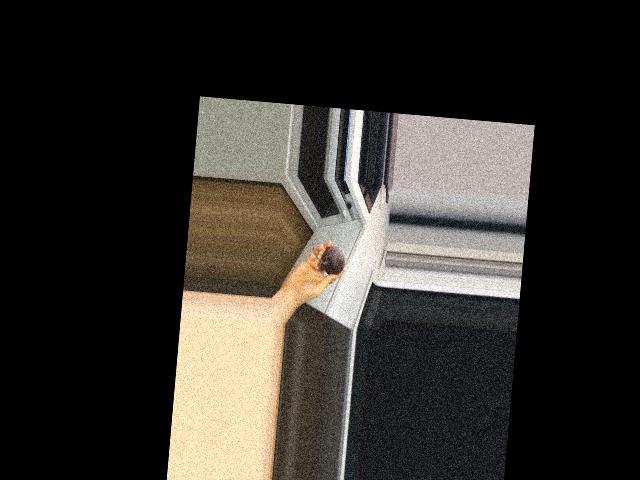beet: (309, 240, 346, 275)
